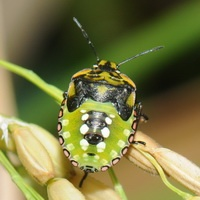insect: (58, 47, 161, 185)
